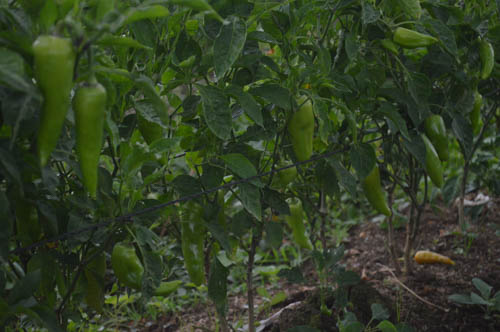ChiliPepper: (33, 36, 72, 167), (77, 83, 102, 203), (174, 203, 203, 288), (283, 94, 317, 160), (115, 245, 149, 291), (363, 166, 392, 217), (416, 137, 444, 184), (288, 201, 310, 248), (426, 117, 453, 154), (379, 42, 425, 63), (394, 29, 436, 47), (479, 38, 494, 82)
